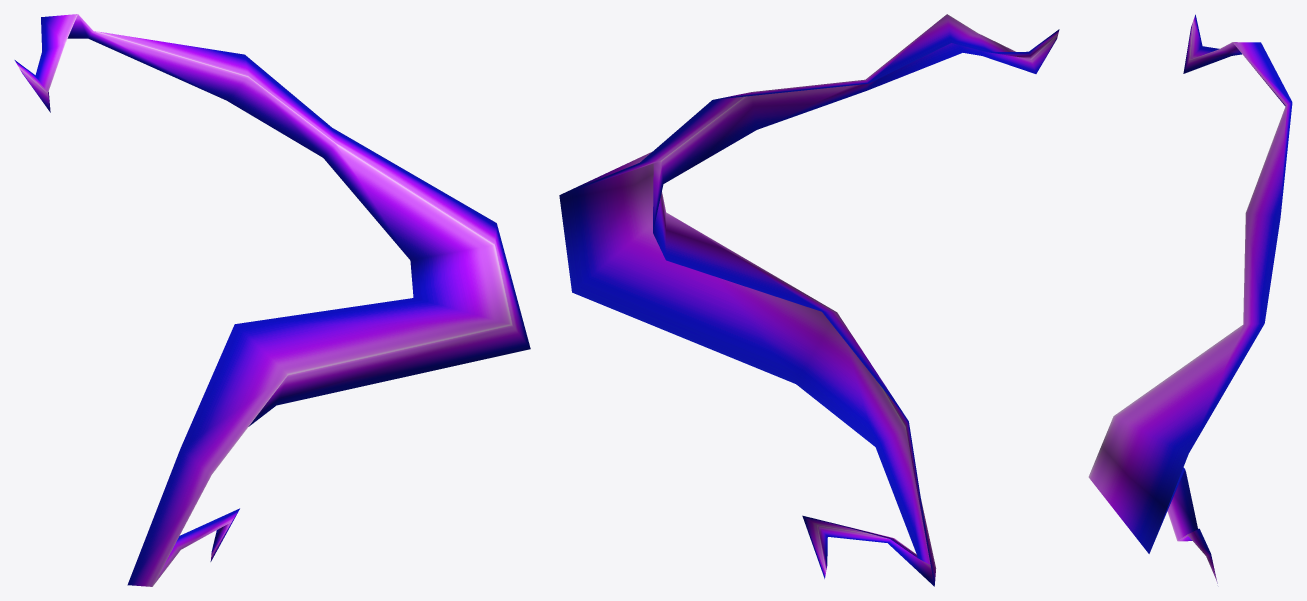
File: lightning_03.fbx
The picture shows the model from 3 angles, left to right: view 1: azimuth 30°, elevation 25°; view 2: azimuth 150°, elevation 25°; view 3: azimuth 270°, elevation 25°; orthographic projection. The views are drawn at different scales.
Visible parts, largest first — view 1: lightning_03; view 2: lightning_03; view 3: lightning_03.
Boxes of the visible parts, left/top/right/bottom form: lightning_03: left=14, top=14, right=530, bottom=586; lightning_03: left=559, top=14, right=1059, bottom=586; lightning_03: left=1088, top=14, right=1292, bottom=583.
Bounding box in the file's own units: 45.73 × 51.13 × 19.19.
